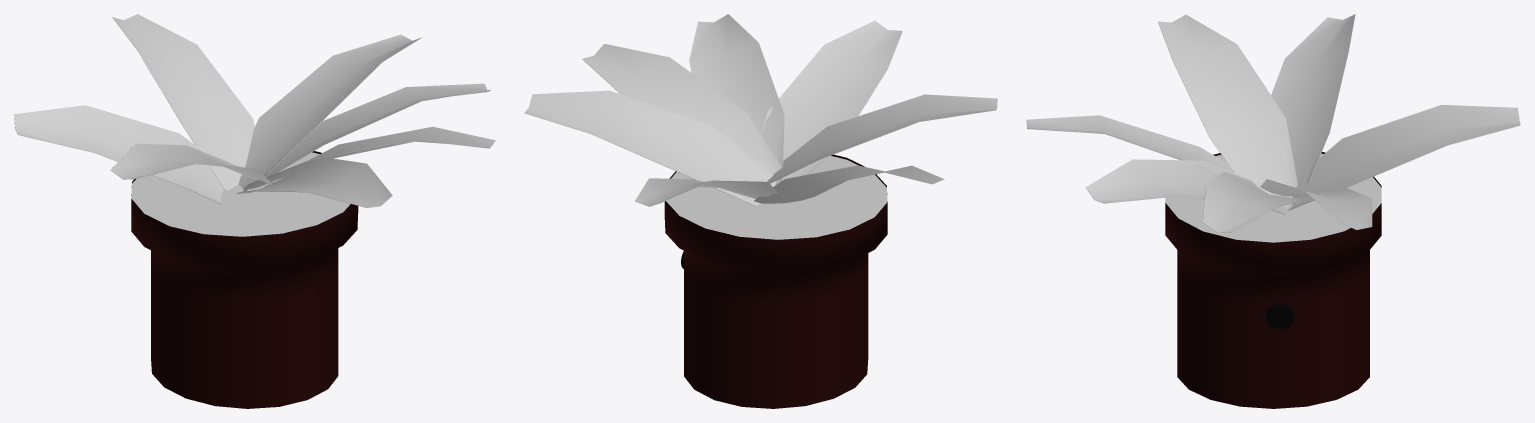
File: plant.FBX
The picture shows the model from 3 angles, left to right: view 1: azimuth 30°, elevation 25°; view 2: azimuth 150°, elevation 25°; view 3: azimuth 270°, elevation 25°; orthographic projection.
Parts seen in each view (by area): view 1: Cylinder002, Plane005, Plane001, Plane007, Plane002, Plane004, Plane006, Plane003; view 2: Cylinder002, Plane001, Plane004, Plane002, Plane003, Plane006, Plane007, Plane005; view 3: Cylinder002, Plane006, Plane005, Plane007, Plane003, Plane002, Plane004, Plane001, Cylinder003.
Part boxes in pixels (x1,y1,x2,y2): Cylinder002: (131, 151, 358, 408); Plane005: (112, 14, 254, 190); Plane001: (238, 34, 422, 193); Plane007: (14, 105, 225, 204); Plane002: (239, 83, 490, 193); Plane004: (236, 157, 392, 207); Plane006: (110, 143, 273, 184); Plane003: (243, 126, 495, 189); Cylinder002: (664, 154, 887, 408); Plane001: (524, 90, 776, 205); Plane004: (761, 20, 902, 178); Plane002: (582, 44, 785, 180); Plane003: (689, 14, 784, 185); Plane006: (767, 94, 997, 183); Plane007: (754, 165, 944, 203); Plane005: (635, 178, 777, 206); Cylinder002: (1165, 152, 1381, 408); Plane006: (1158, 14, 1297, 207); Plane005: (1287, 105, 1520, 210); Plane007: (1271, 14, 1355, 184); Plane003: (1086, 159, 1285, 214); Plane002: (1202, 171, 1302, 232); Plane004: (1026, 115, 1233, 176); Plane001: (1260, 179, 1372, 229); Cylinder003: (1266, 304, 1294, 329).
Bounding box in the file's own units: 1121 × 702 × 1166.
